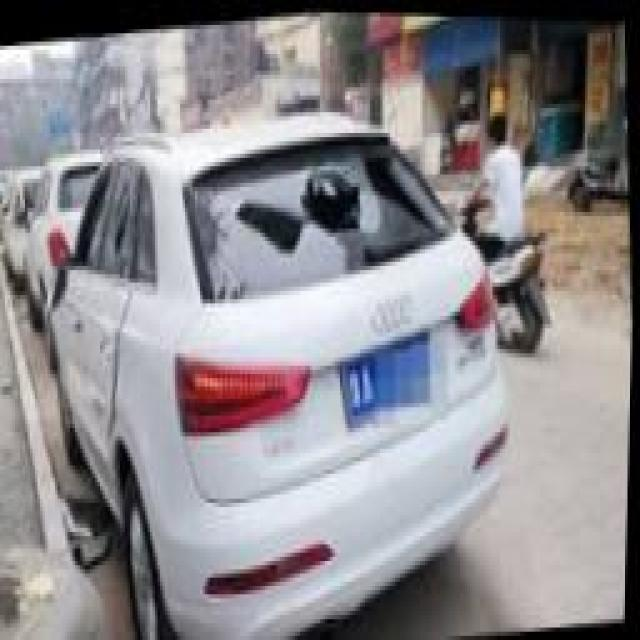Windshield: (188, 138, 457, 300)
